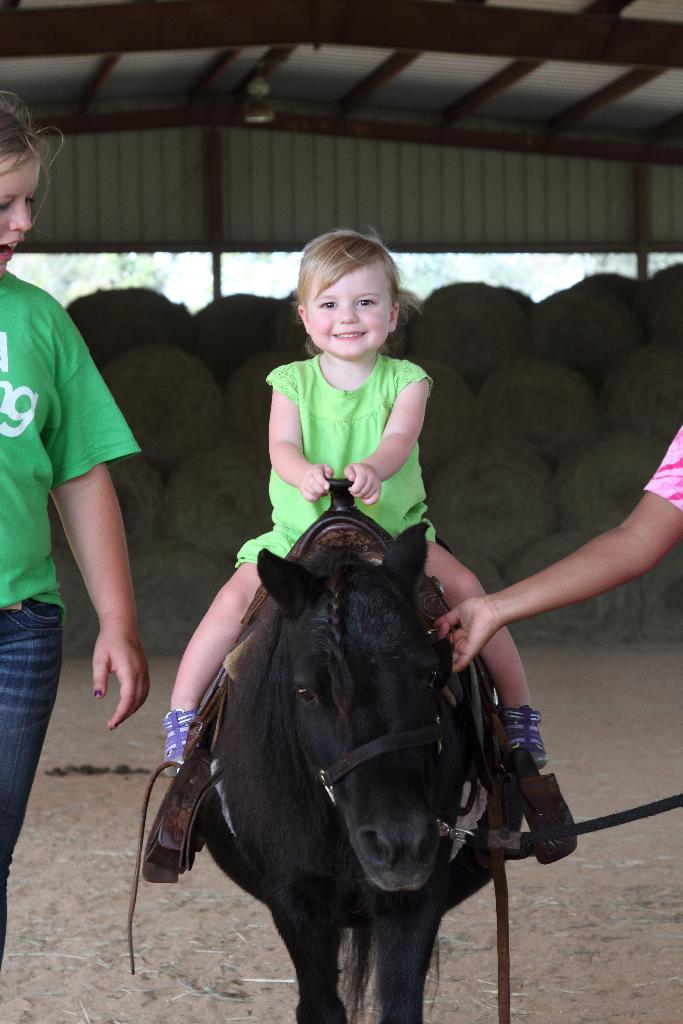Person: (161, 224, 548, 776), (0, 88, 149, 973)
